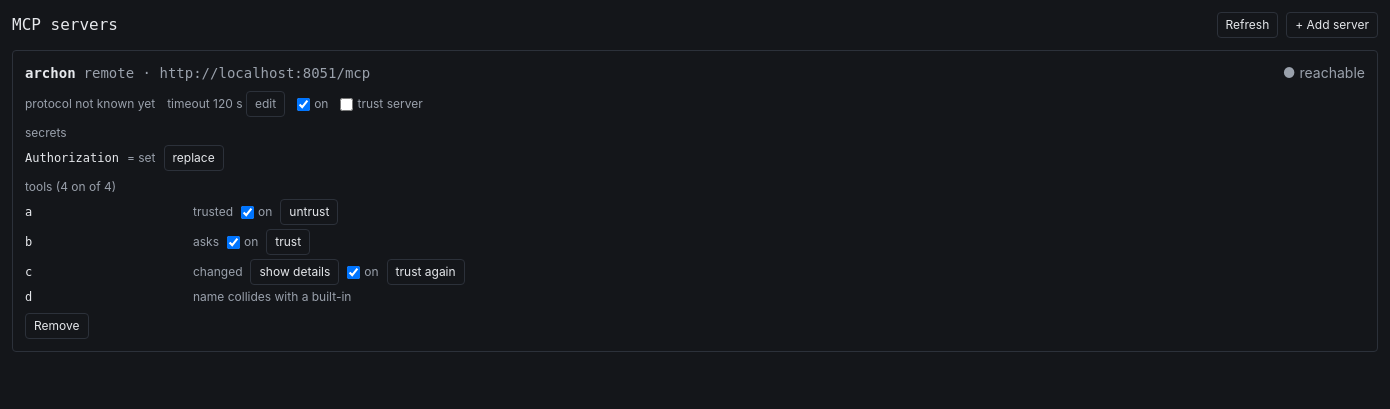
Test: renders each tool state
Expected: the button "untrust" is shown, [280, 199, 338, 225]
Expected: the button "trust" is shown, [266, 229, 310, 255]
Step 1. Click the button "show details" → (295, 272), box [250, 259, 339, 285]
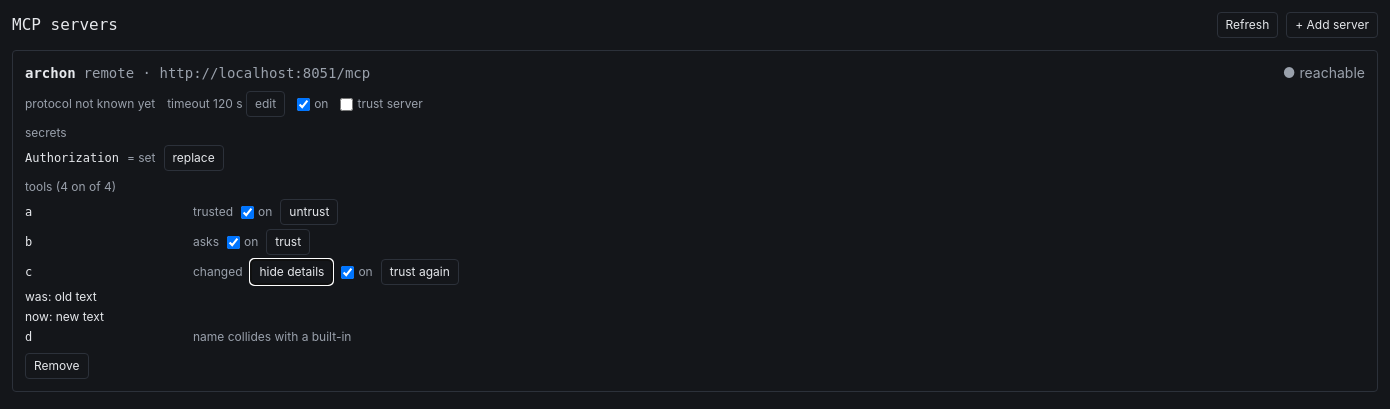
Expected: the text "name collides with a built-in" is shown, [193, 329, 351, 345]
Result: the text "was: old text" is shown at [25, 289, 97, 304]
Result: the text "now: new text" is shown at [25, 309, 104, 324]
